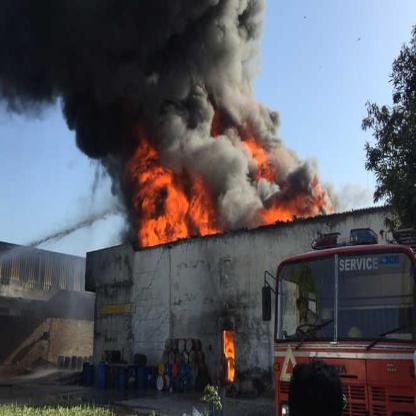fire: (125, 134, 227, 252), (240, 126, 276, 192), (251, 191, 316, 226), (219, 325, 238, 385), (310, 176, 334, 214)
